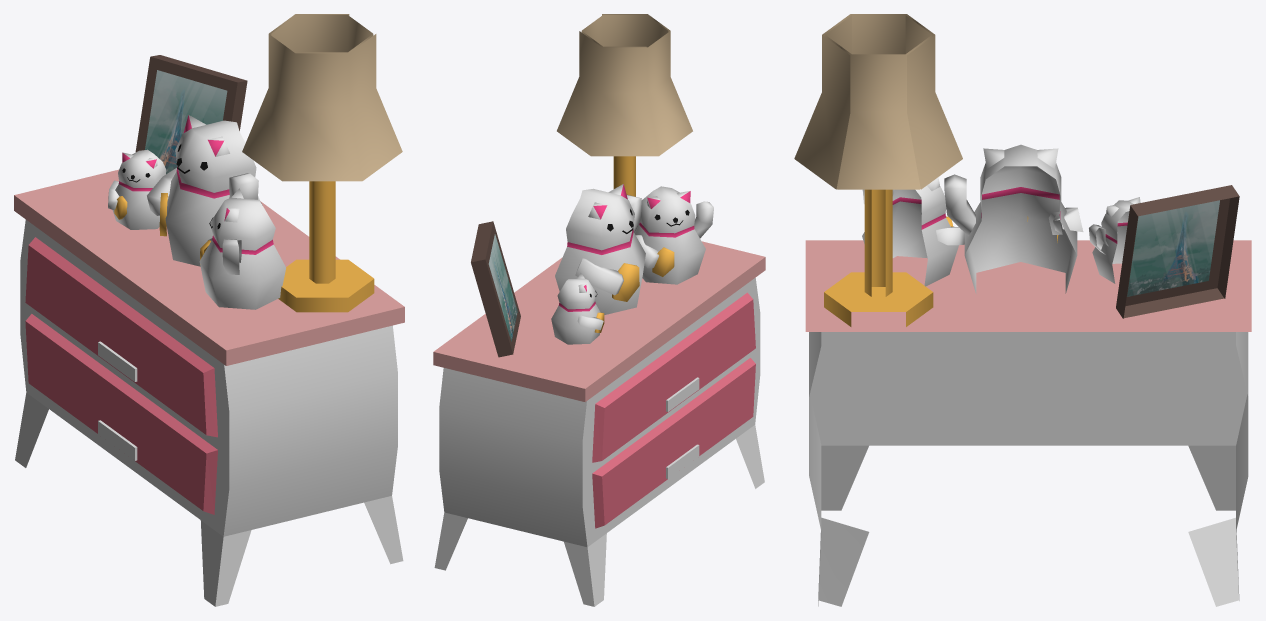
The model's file is interior_C_005.fbx.
3 views of the same model, side by side, from view 1: azimuth 30°, elevation 25°; view 2: azimuth 150°, elevation 25°; view 3: azimuth 270°, elevation 25° (orthographic). The views are drawn at different scales.
Visible parts, largest first — view 1: interior_C_005; view 2: interior_C_005; view 3: interior_C_005.
Boxes of the visible parts, x1,y1,x2,y2 form: interior_C_005: (14, 14, 404, 606); interior_C_005: (433, 14, 765, 606); interior_C_005: (794, 14, 1251, 606).
Size of the model in its own units: 54.61 by 137 by 104.
